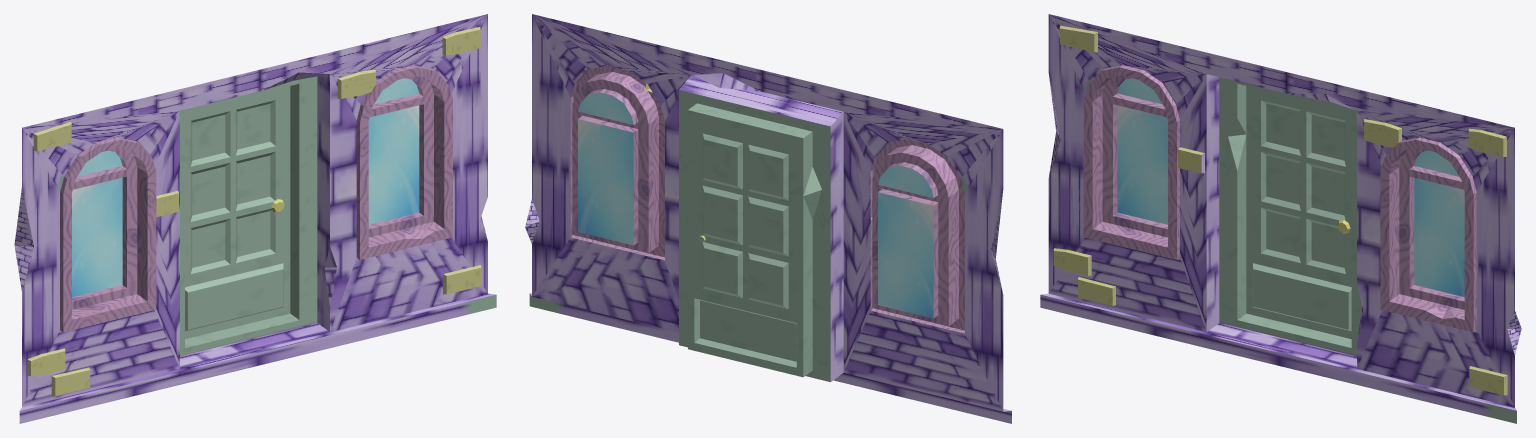
The model's file is House_Door_02.fbx.
3 renders of one model, left to right at view 1: azimuth 30°, elevation 25°; view 2: azimuth 150°, elevation 25°; view 3: azimuth 330°, elevation 25°, orthographic.
Visible parts, largest first — view 1: SM_Bld_Apartment_Door_02.001; view 2: SM_Bld_Apartment_Door_02.001; view 3: SM_Bld_Apartment_Door_02.001.
Boxes of the visible parts, left/top/right/bottom form: SM_Bld_Apartment_Door_02.001: left=14, top=14, right=496, bottom=423; SM_Bld_Apartment_Door_02.001: left=525, top=14, right=1011, bottom=423; SM_Bld_Apartment_Door_02.001: left=1040, top=14, right=1521, bottom=423.
Bounding box in the file's own units: 511 × 300 × 49.83.
